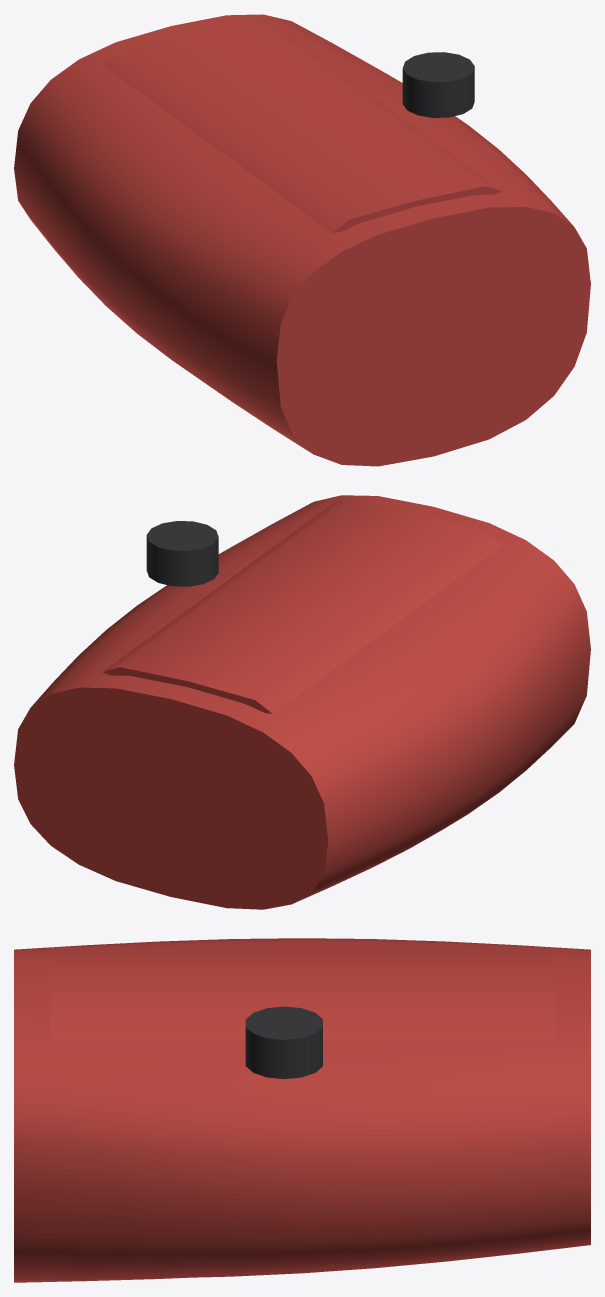
Rendered from rear_tank.glb.
3 views of the same model, one above another, from view 1: azimuth 30°, elevation 25°; view 2: azimuth 150°, elevation 25°; view 3: azimuth 270°, elevation 25° (orthographic). The views are drawn at different scales.
Visible parts, largest first — view 1: lod0; view 2: lod0; view 3: lod0.
Part boxes in pixels (x1,y1,x2,y2): lod0: (14, 14, 590, 466); lod0: (14, 495, 590, 909); lod0: (14, 938, 590, 1282).
Size of what is drawn, in the model's own units: 0.26 by 0.18 by 0.32.
